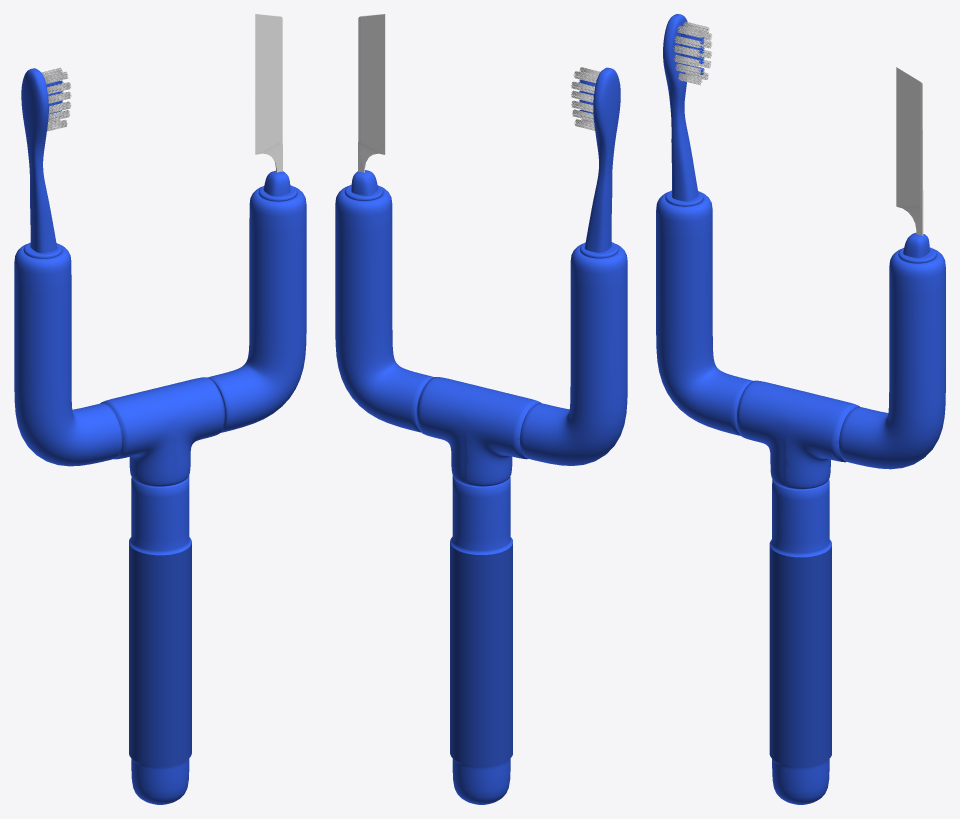
Rendered from BrosseRazoirBleu.glb.
3 views of the same model, side by side, from view 1: azimuth 30°, elevation 25°; view 2: azimuth 150°, elevation 25°; view 3: azimuth 330°, elevation 25° (orthographic).
Visible parts, largest first — view 1: Manche.005; view 2: Manche.005; view 3: Manche.005.
Part boxes in pixels (<box>): Manche.005: <box>14,14,306,804</box>; Manche.005: <box>335,14,627,804</box>; Manche.005: <box>656,14,945,804</box>.
Bounding box in the file's own units: 3.77 × 9.67 × 0.7217.
